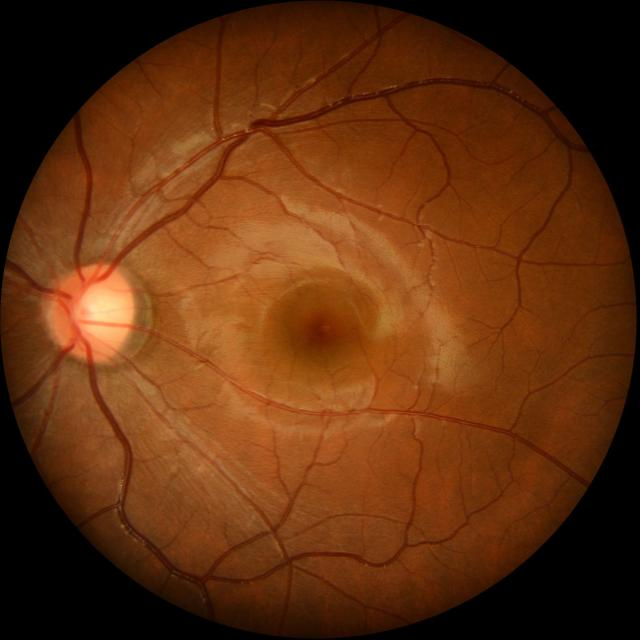OC: (69, 282, 126, 344)
OD: (47, 262, 136, 361)
